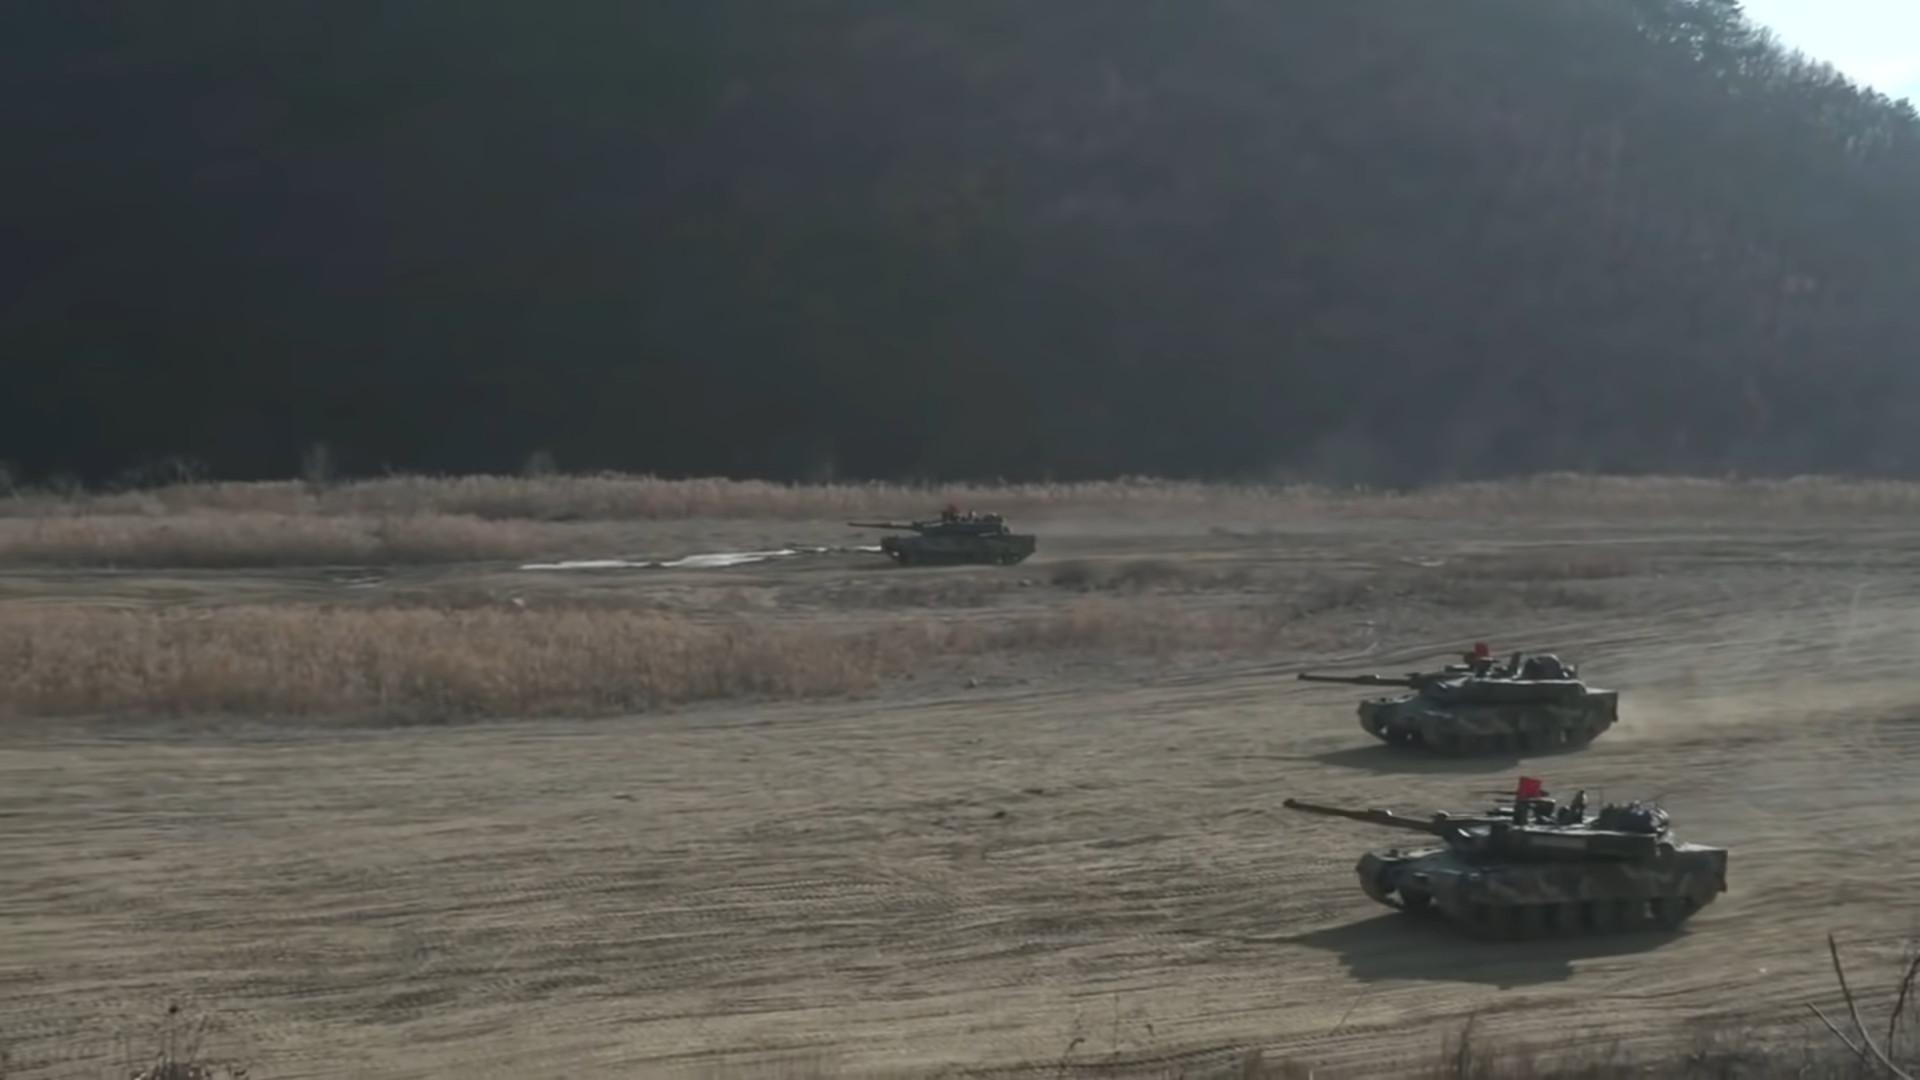tank: (1283, 791, 1729, 941), (1298, 650, 1619, 759), (847, 509, 1036, 566)
